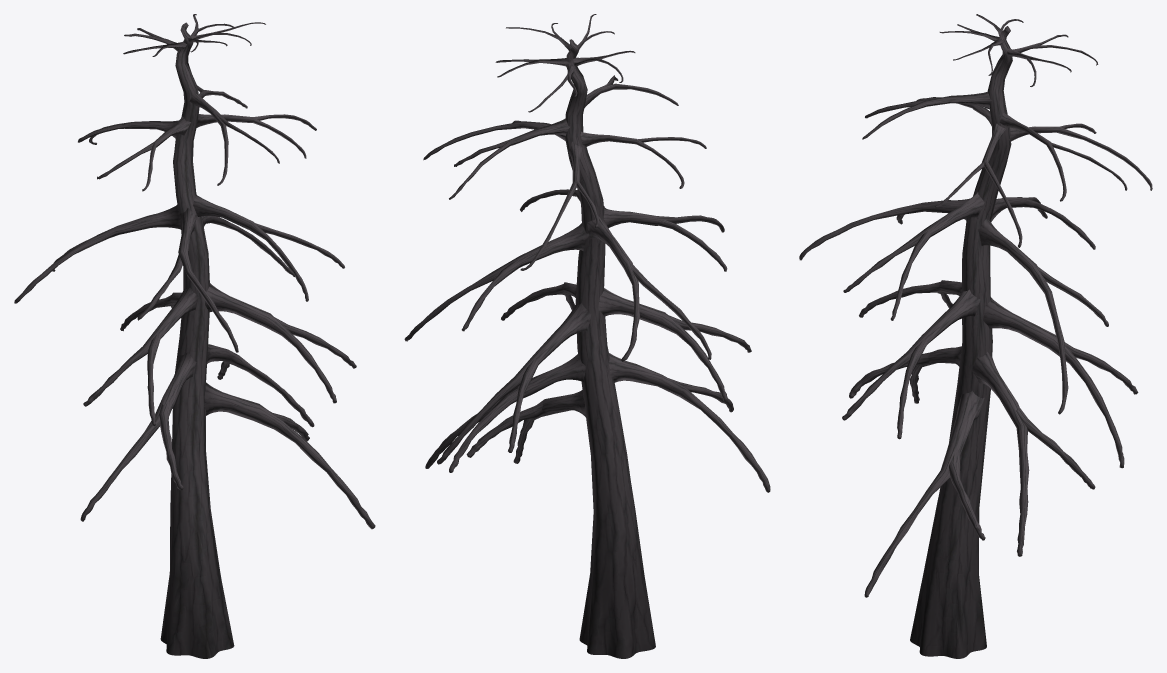
The model's file is n_dead_tree1.glb.
3 renders of one model, left to right at view 1: azimuth 30°, elevation 25°; view 2: azimuth 150°, elevation 25°; view 3: azimuth 270°, elevation 25°, orthographic. The views are drawn at different scales.
Parts seen in each view (by area): view 1: DeadTree_5; view 2: DeadTree_5; view 3: DeadTree_5.
Part boxes in pixels (<box>): DeadTree_5: <box>14,14,375,658</box>; DeadTree_5: <box>404,14,770,658</box>; DeadTree_5: <box>799,14,1152,658</box>.
Bounding box in the file's own units: 8.36 × 16.44 × 8.41.
Materials: 1 (1 with a texture image).
